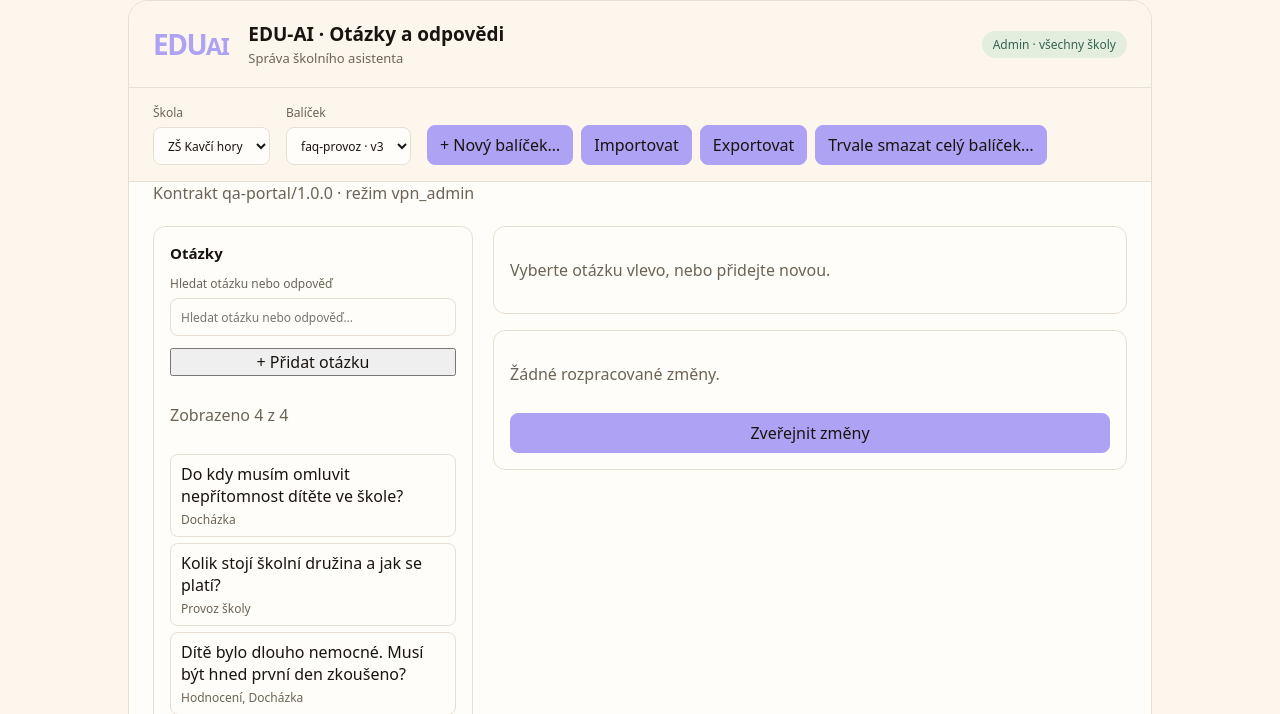
Scenario: unsaved changes when switching schools › keeps the original school and draft when the confirm is rejected, switches when accepted
Click the text "Do kdy musím omluvit nepřítomnost dítěte ve škole?".
click(292, 485)  # box x1=181 y1=463 x2=403 y2=507
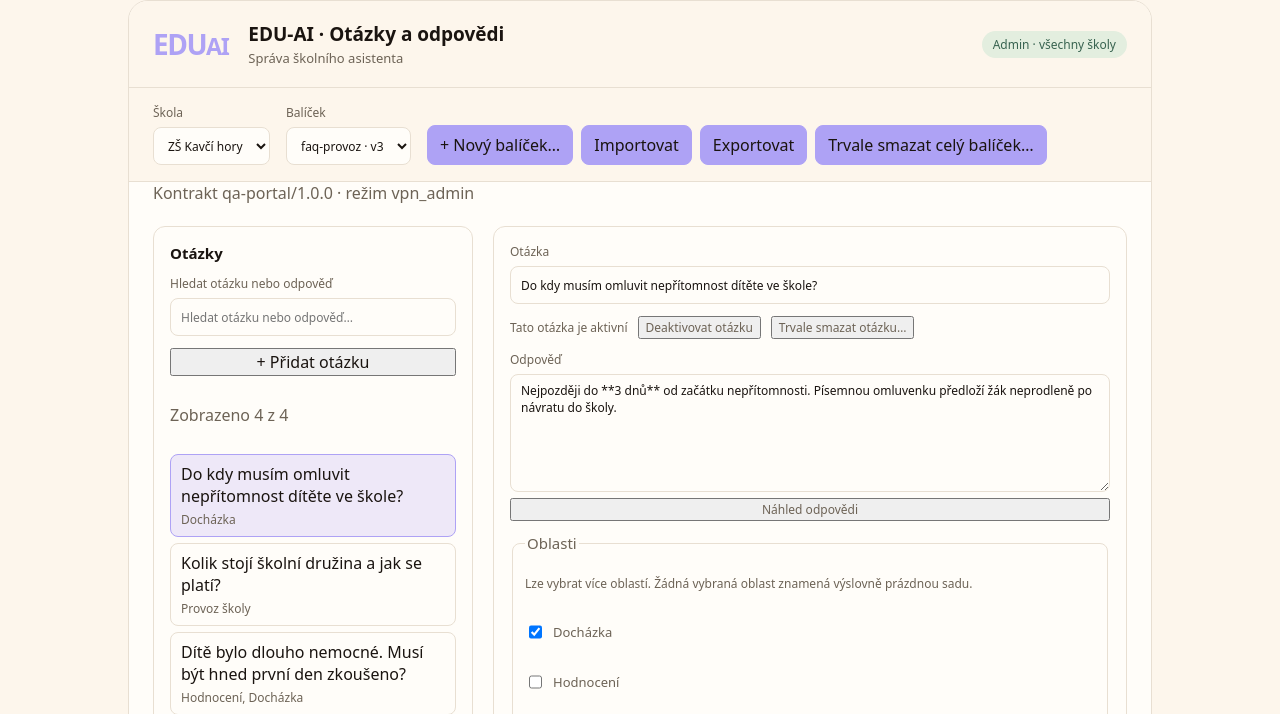
Replace the text in the text box labelled "Odpověď" with "Rozepsaná, nezveřejněná odpověď." at (810, 433), box x1=510 y1=374 x2=1110 y2=492
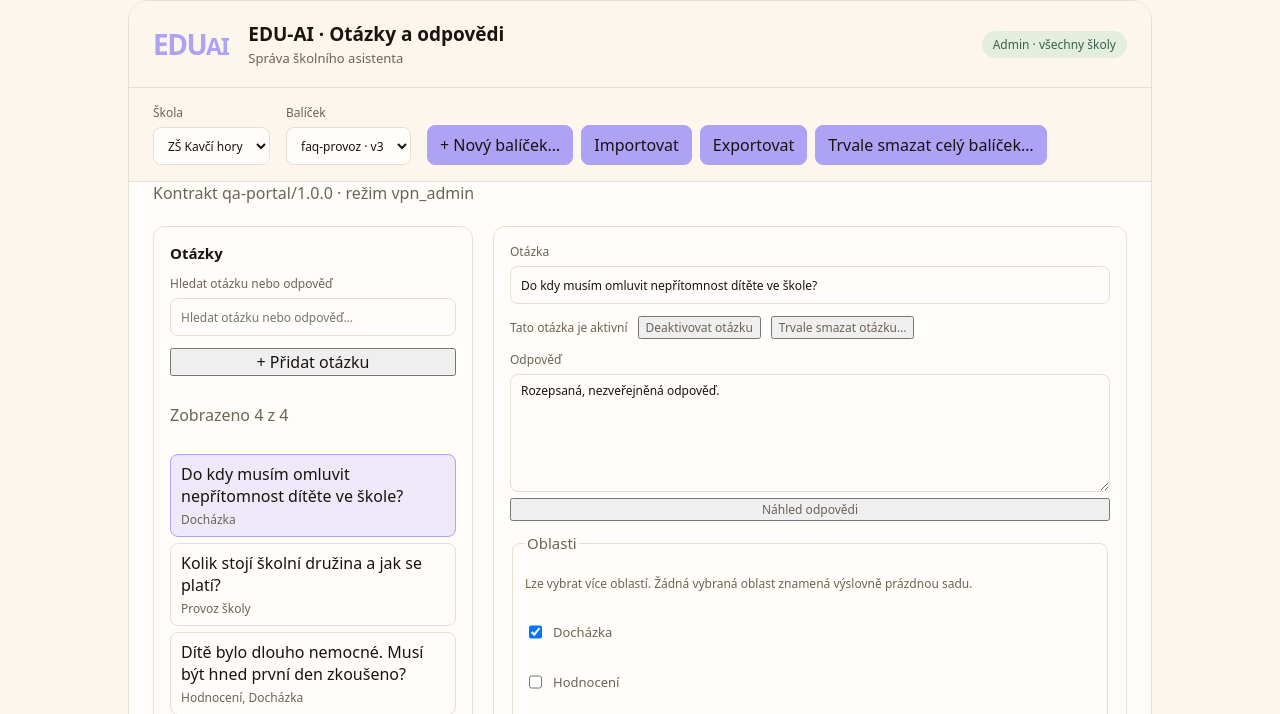
Select "ZŠ Jedovnice" in the dropdown labelled "Škola" at (212, 146), box x1=153 y1=127 x2=270 y2=165
Check: the text "Do kdy musím omluvit nepřítomnost dítěte ve škole?" is shown, box x1=181 y1=463 x2=403 y2=507
Select "ZŠ Jedovnice" in the dropdown labelled "Škola" at (212, 146), box x1=153 y1=127 x2=270 y2=165
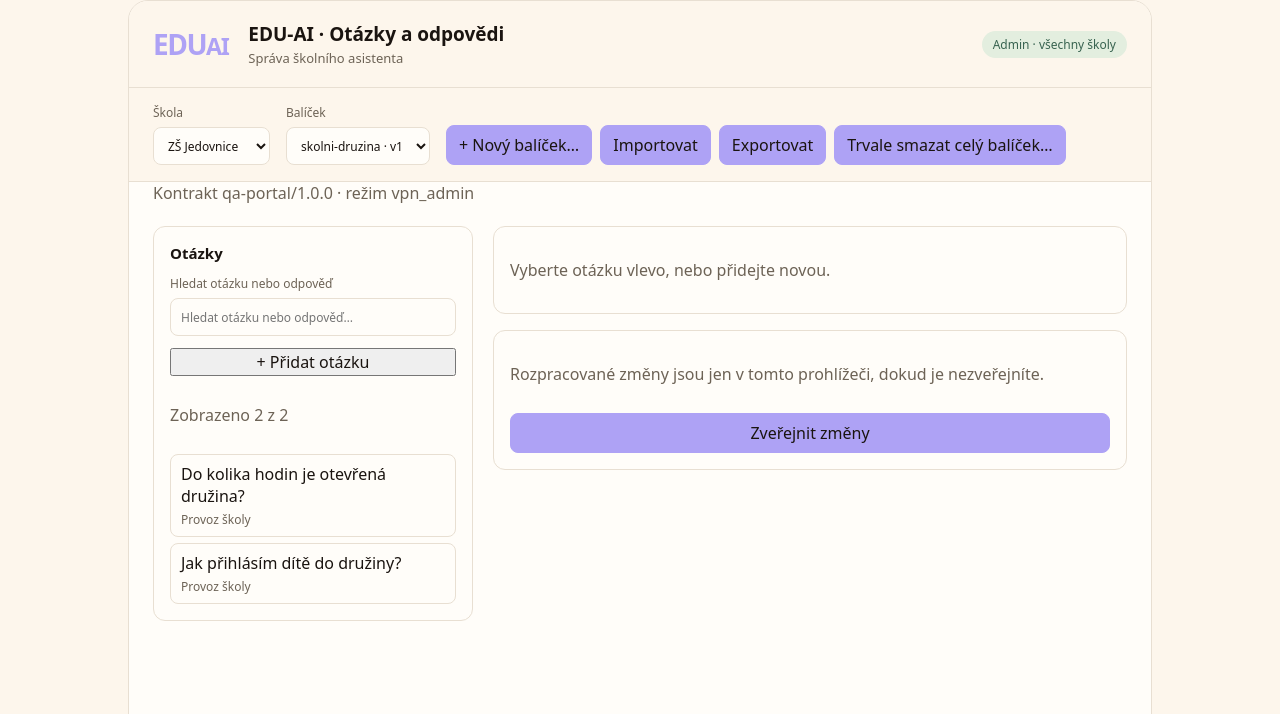
Check: the text "Do kolika hodin je otevřená družina?" is shown, box x1=181 y1=463 x2=386 y2=507
